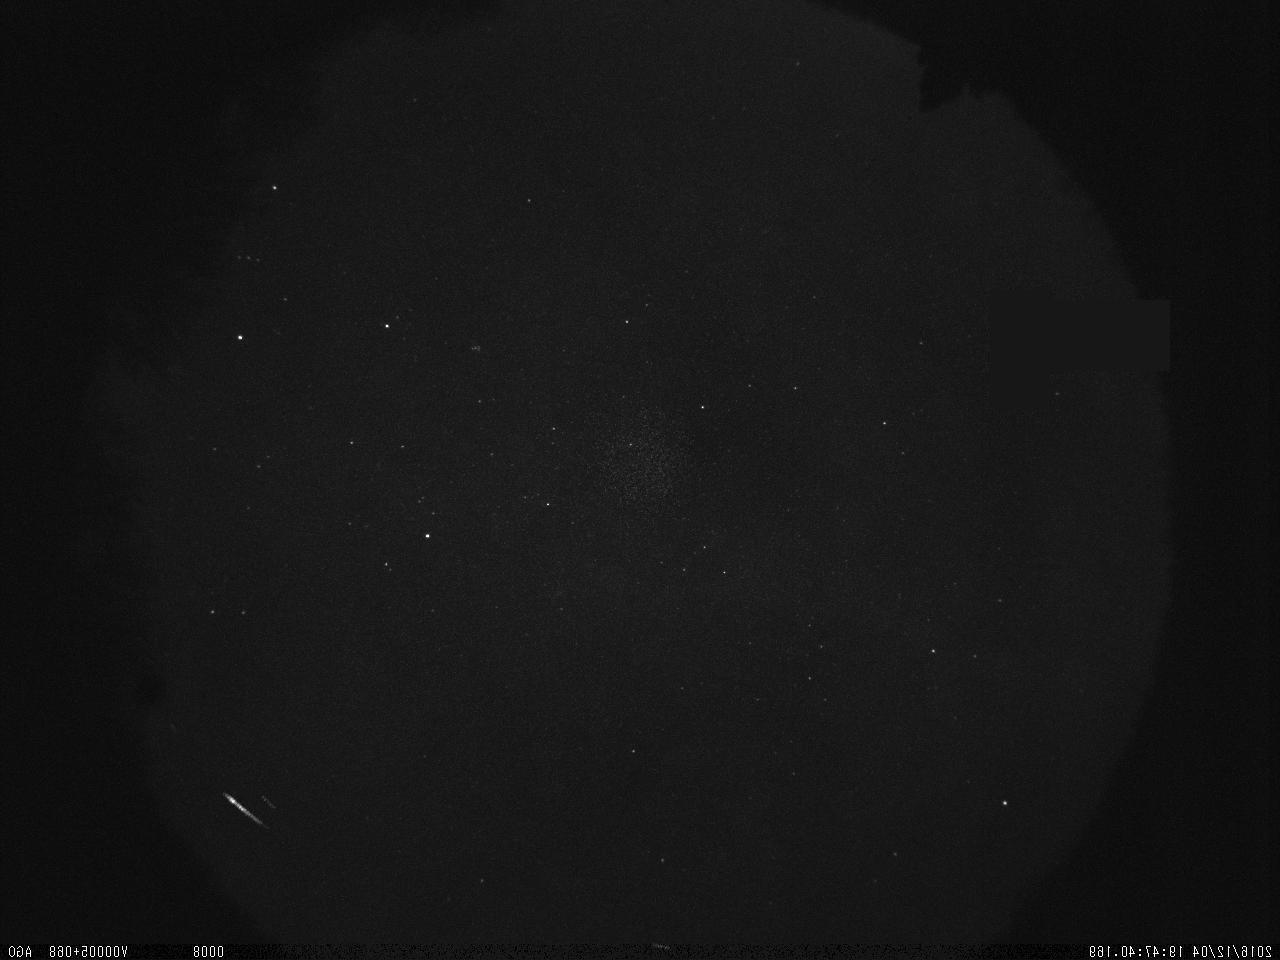meteor: (215, 787, 254, 879)
